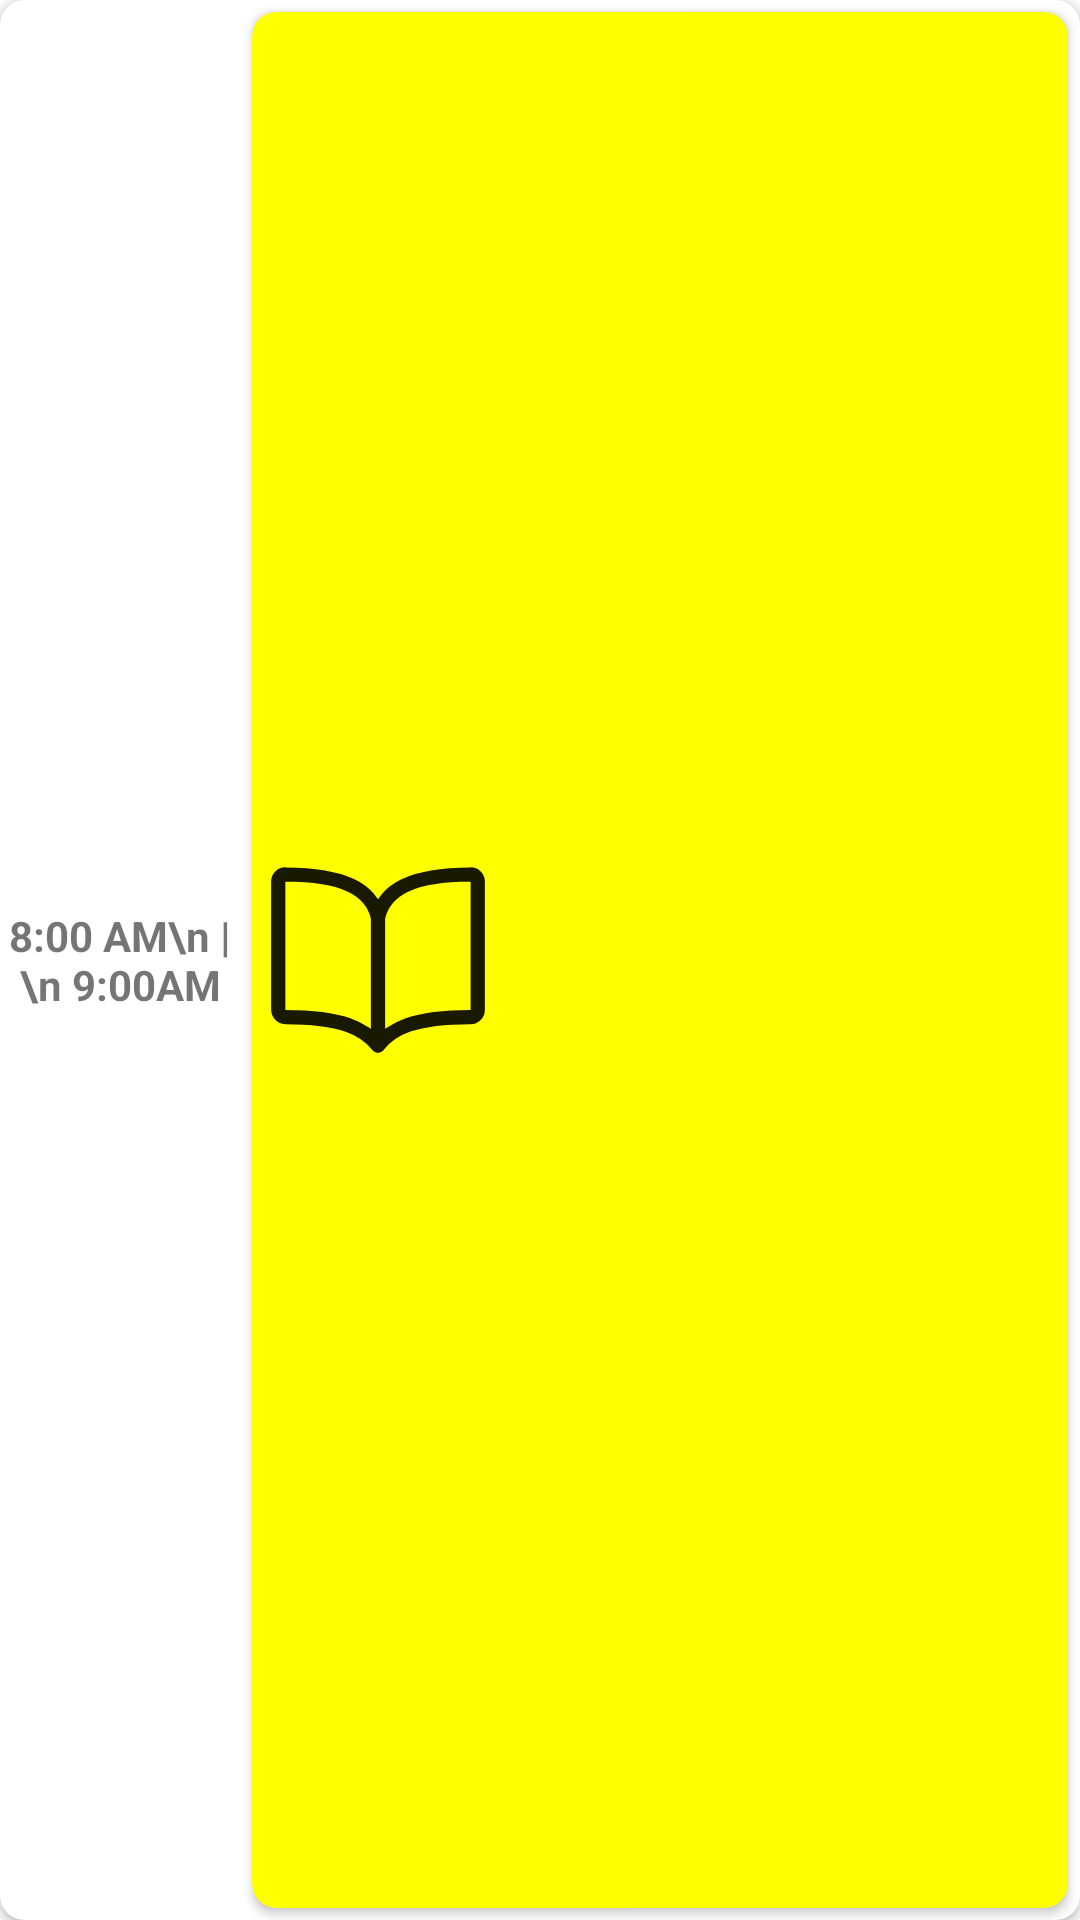

Point at icon controls on the screen. Image size 1080 × 1920, points as [x,y].
book: [378,960]
